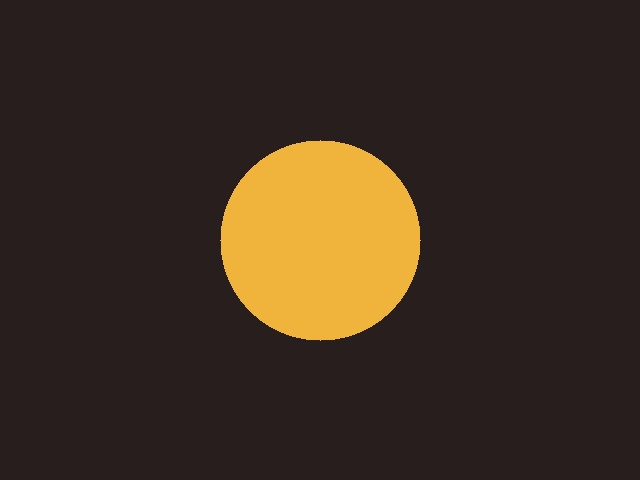Circle: (220, 142, 420, 338)
